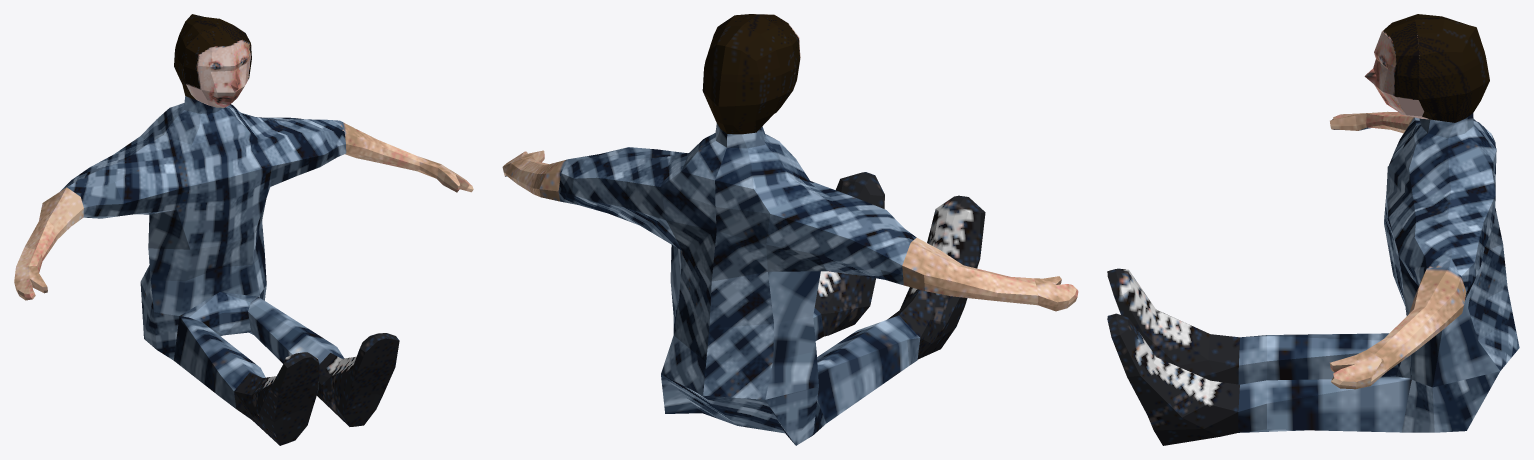
File: baby.fbx
3 views of the same model, side by side, from view 1: azimuth 30°, elevation 25°; view 2: azimuth 150°, elevation 25°; view 3: azimuth 270°, elevation 25° (orthographic). The views are drawn at different scales.
Visible parts, largest first — view 1: daBabyBody; view 2: daBabyBody; view 3: daBabyBody.
Boxes of the visible parts, x1,y1,x2,y2 form: daBabyBody: [14, 14, 473, 445]; daBabyBody: [502, 14, 1078, 445]; daBabyBody: [1107, 14, 1519, 445].
Bounding box in the file's own units: 71.96 × 51.07 × 47.45.
